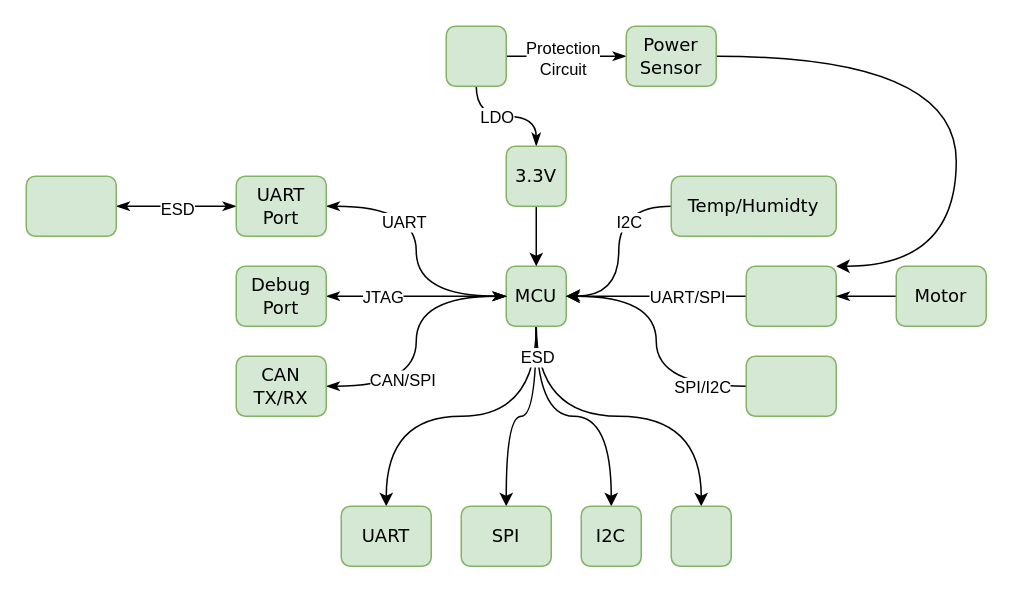
This 1013x593 diagram has some shape labels left out. Here are the shapes that lost their labels. From the top down, the box of each, then its label:
(445, 25, 506, 86): 48V
(25, 175, 116, 236): USB-C
(745, 265, 836, 326): Motor Driver
(745, 355, 836, 416): Position Sensor
(670, 505, 731, 566): 5V
